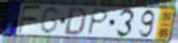3: (114, 8, 137, 39)
9: (138, 9, 156, 39)
D: (63, 7, 89, 36)
F: (17, 5, 42, 35)
G: (39, 6, 61, 35)
P: (86, 8, 110, 36)
